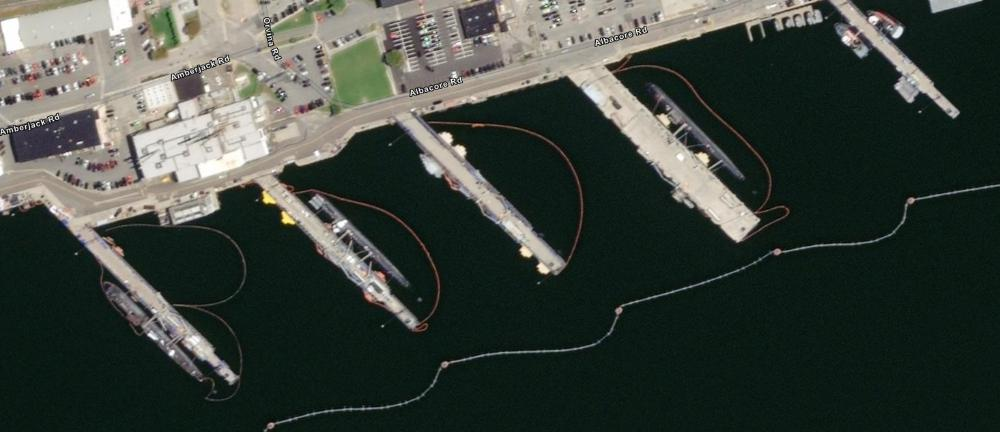submarine: (91, 272, 230, 399), (303, 188, 430, 310), (645, 76, 755, 191)
